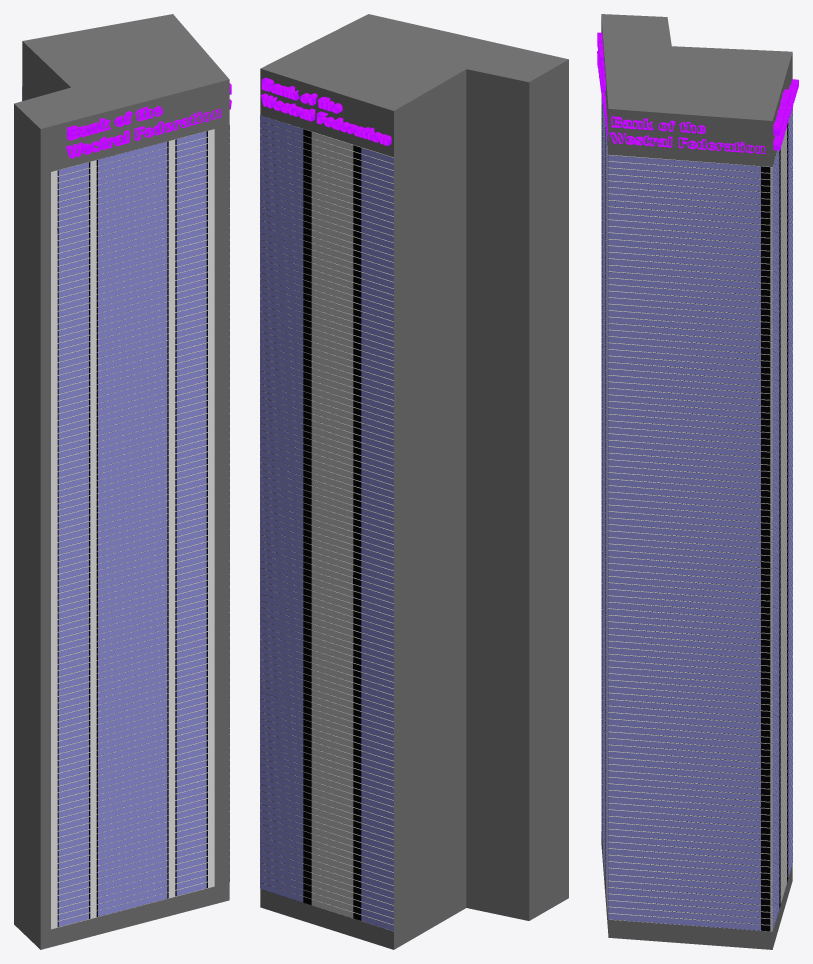
File: BankoftheWestralFederationTower.fbx
3 views of the same model, side by side, from view 1: azimuth 30°, elevation 25°; view 2: azimuth 150°, elevation 25°; view 3: azimuth 270°, elevation 25° (orthographic). The views are drawn at different scales.
Parts seen in each view (by area): view 1: Window.001, BankOfTheWestralFederationTower, Text, Window; view 2: BankOfTheWestralFederationTower, Window, Text.002; view 3: Window, BankOfTheWestralFederationTower, Window.001, Text.001, Text.002, Text.
Boxes of the visible parts, left/top/right/bottom form: Window.001: left=51, top=129, right=214, bottom=929; BankOfTheWestralFederationTower: left=14, top=14, right=229, bottom=949; Text: left=66, top=106, right=221, bottom=158; Window: left=22, top=86, right=229, bottom=881; BankOfTheWestralFederationTower: left=260, top=14, right=568, bottom=949; Window: left=260, top=115, right=393, bottom=931; Text.002: left=260, top=77, right=391, bottom=145; Window: left=608, top=107, right=792, bottom=931; BankOfTheWestralFederationTower: left=601, top=14, right=792, bottom=949; Window.001: left=601, top=94, right=607, bottom=910; Text.001: left=610, top=116, right=765, bottom=153; Text.002: left=773, top=79, right=798, bottom=150; Text: left=597, top=32, right=608, bottom=140.
Size of the model in its own units: 7235 by 26086 by 5754.
